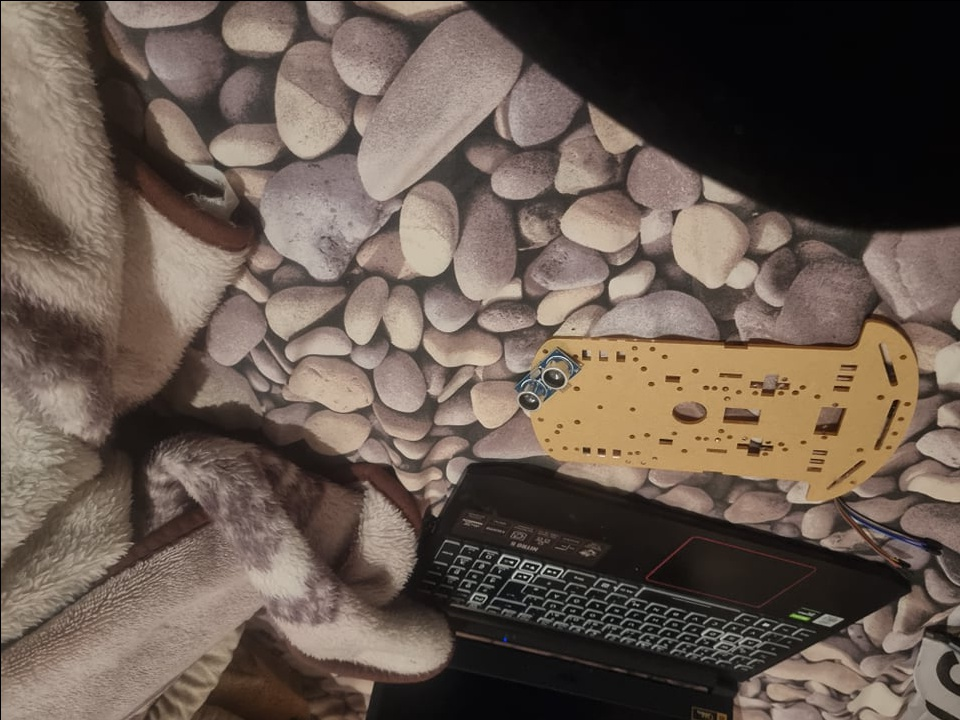SENSOR: (515, 350, 579, 412)
